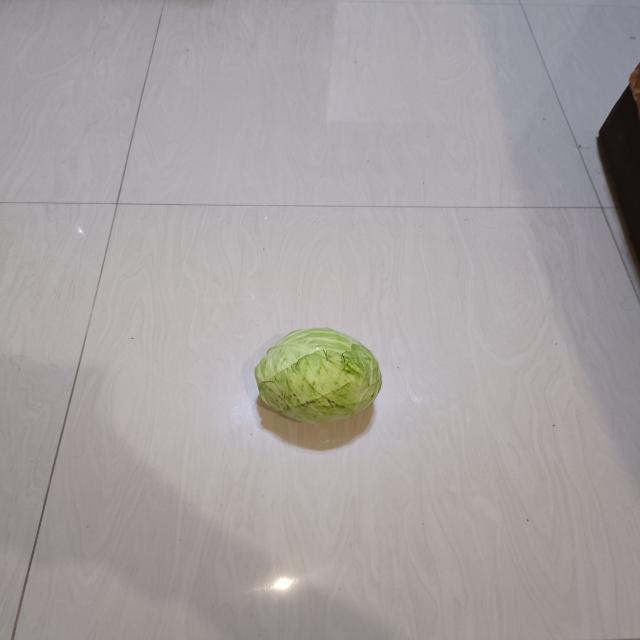cabbage: (254, 330, 382, 422)
